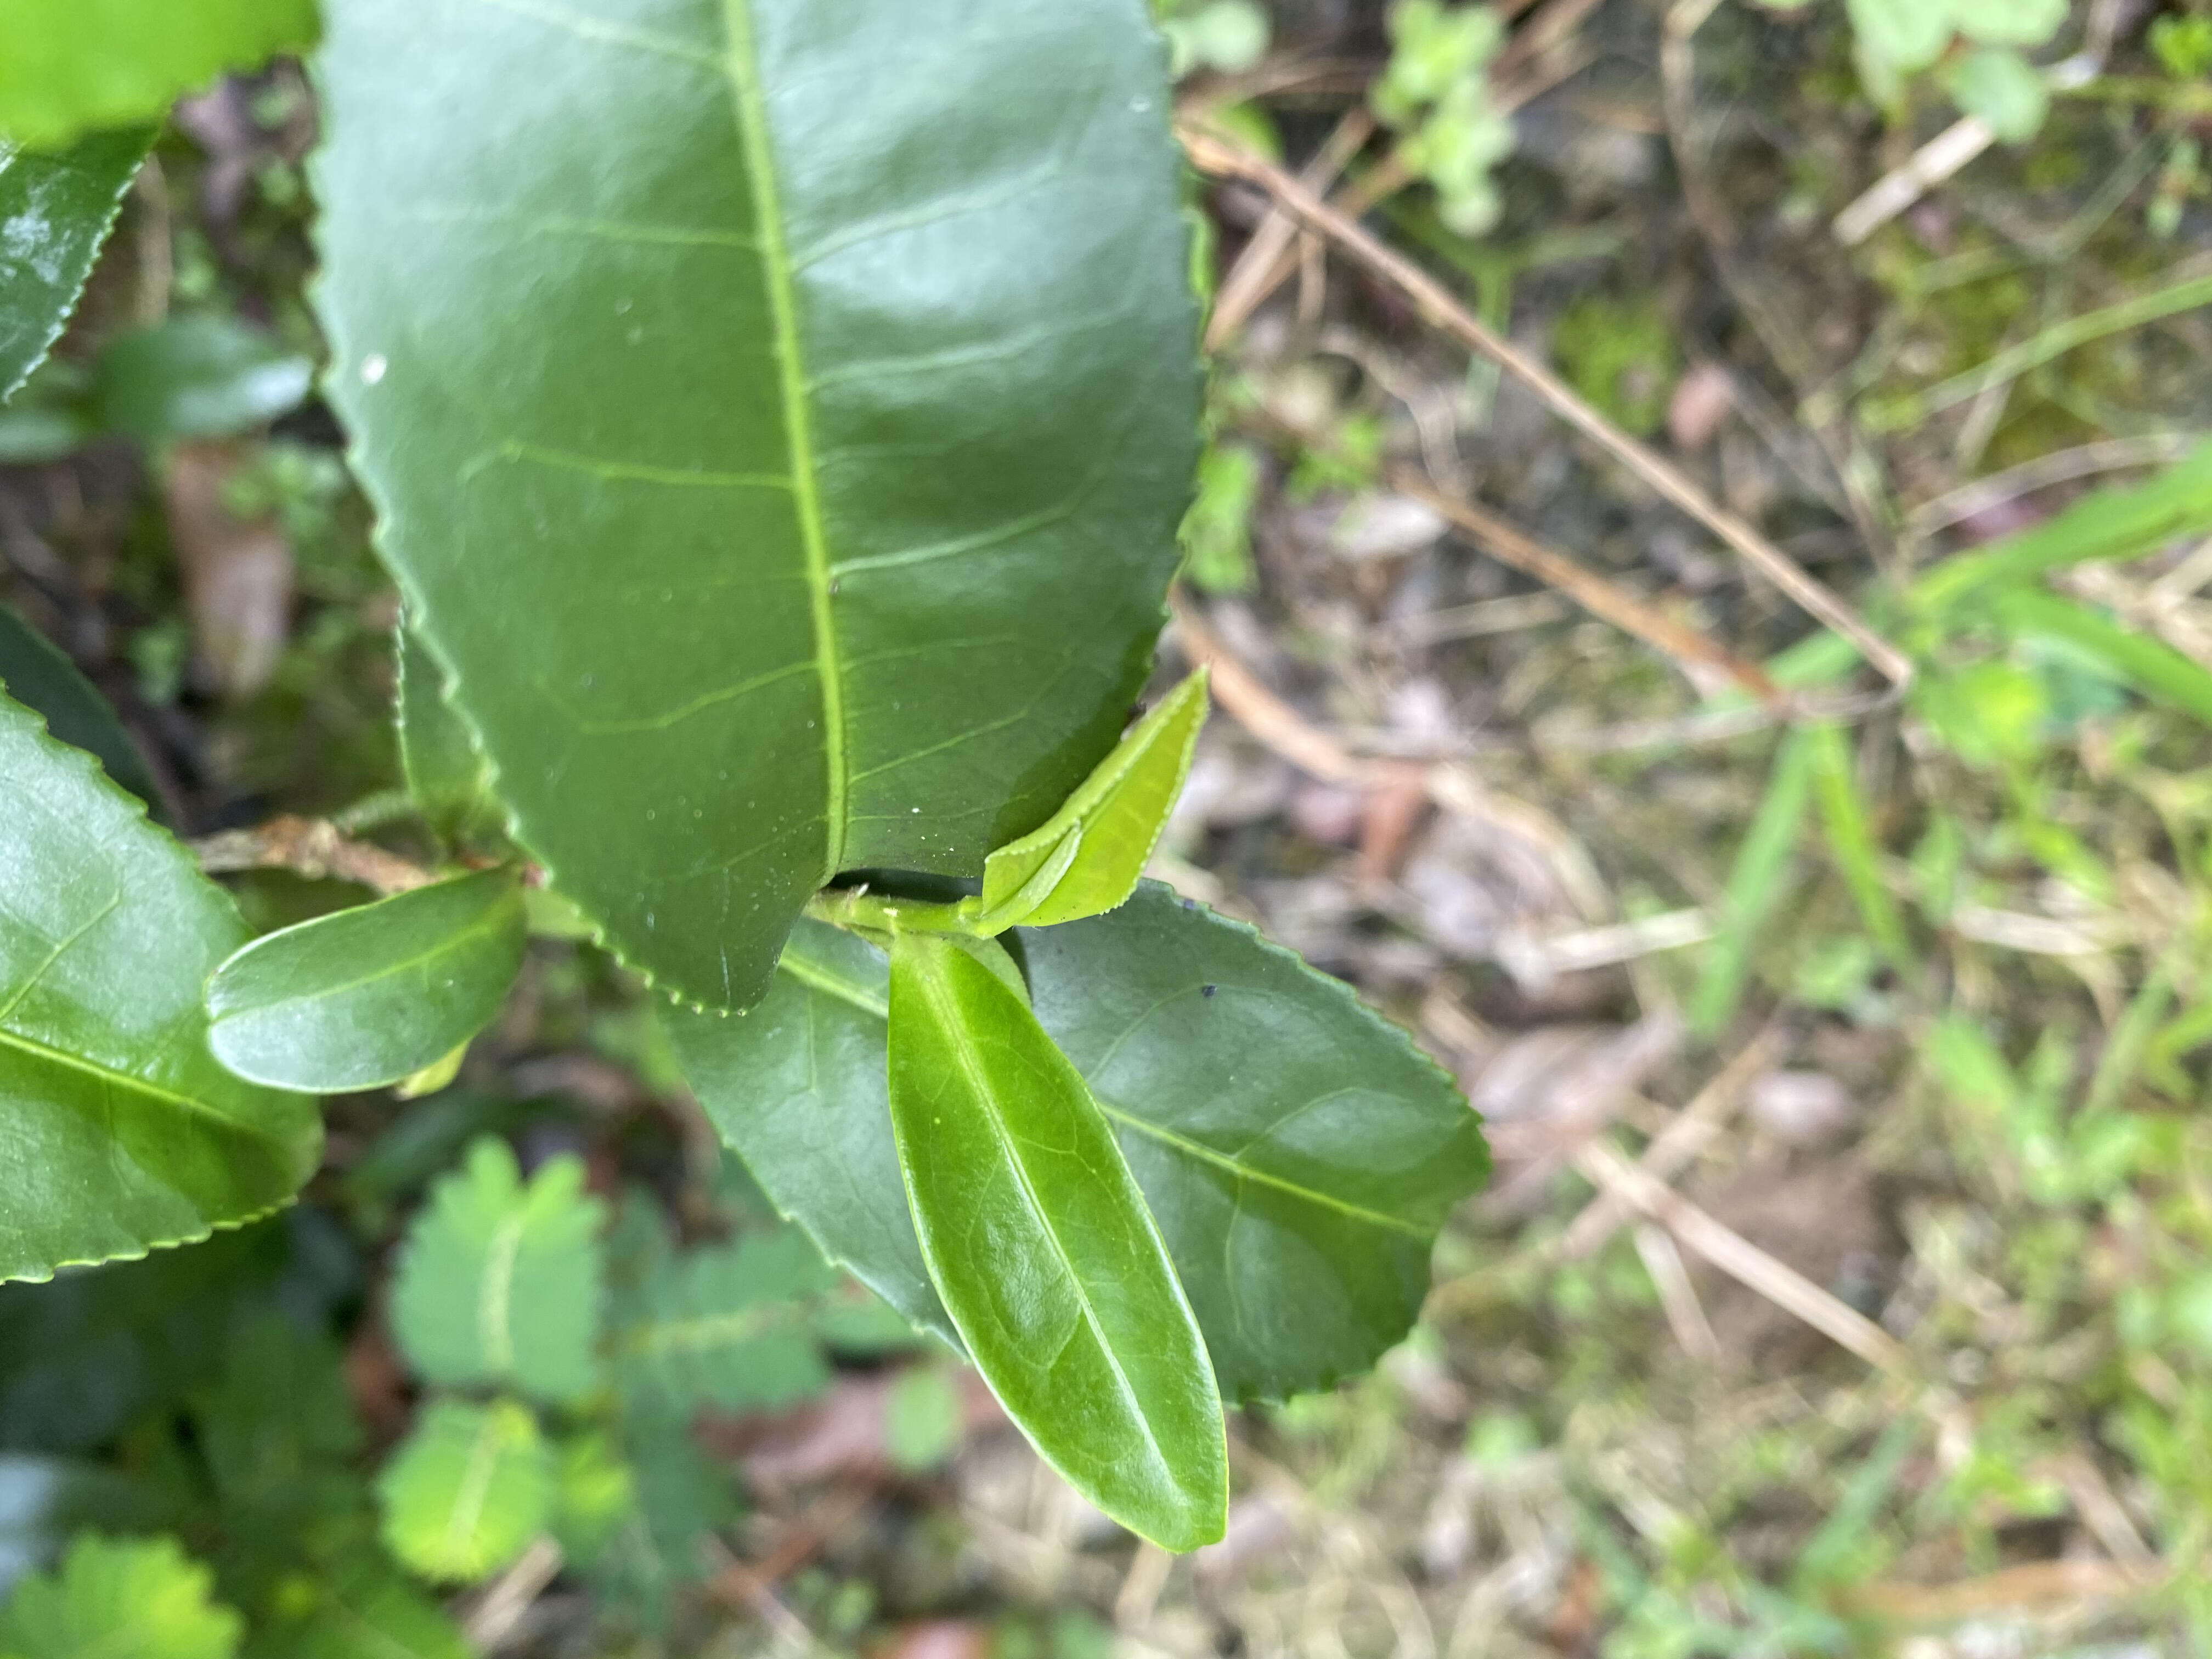healthy: (298, 5, 1216, 1016), (887, 931, 1235, 1556), (5, 678, 333, 1284), (207, 864, 533, 1093)
